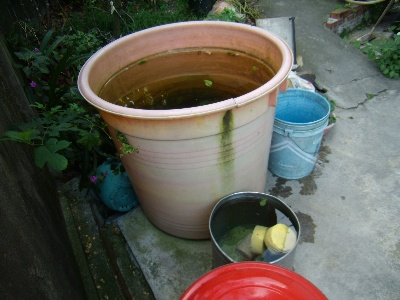bucket: (77, 20, 294, 242), (208, 190, 300, 275), (268, 89, 329, 179)
